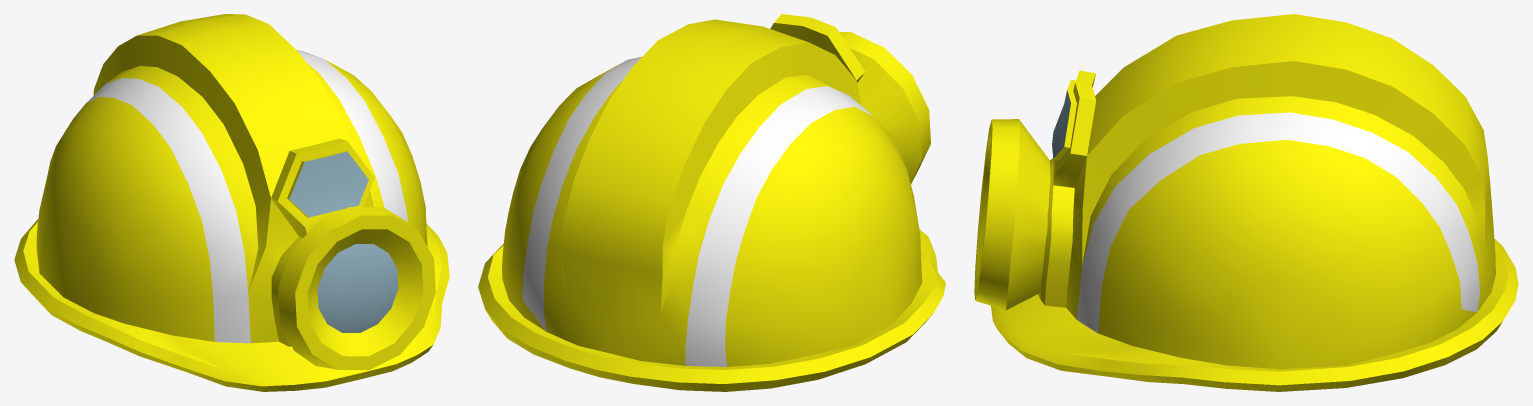
File: Helmet_Miner.fbx
3 renders of one model, left to right at view 1: azimuth 30°, elevation 25°; view 2: azimuth 150°, elevation 25°; view 3: azimuth 270°, elevation 25°, orthographic. The views are drawn at different scales.
Parts seen in each view (by area): view 1: Helmet_Miner; view 2: Helmet_Miner; view 3: Helmet_Miner.
Part boxes in pixels (x1,y1,x2,y2): Helmet_Miner: (14, 14, 449, 391); Helmet_Miner: (478, 14, 945, 391); Helmet_Miner: (974, 14, 1518, 391).
Bounding box in the file's own units: 438 × 297 × 497.
